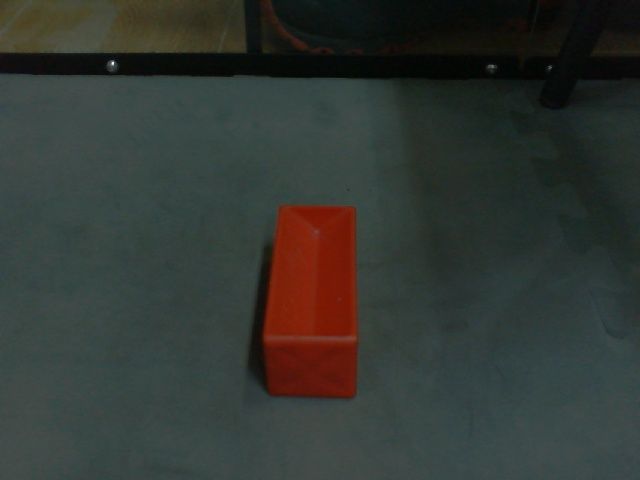RedSample: (258, 203, 360, 401)
